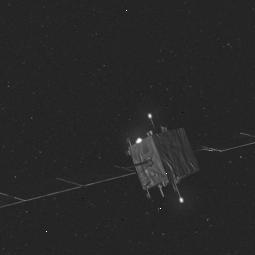smart_1: (38, 106, 230, 212)
